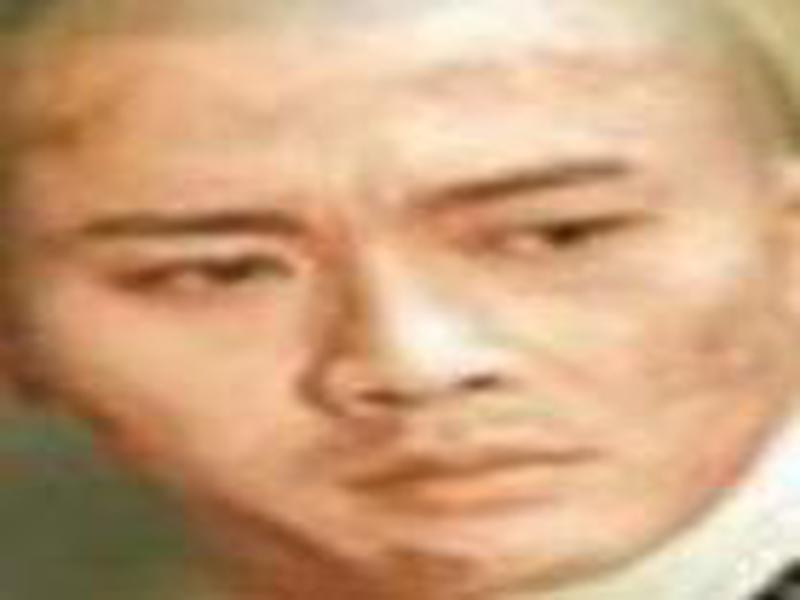without_mask: (10, 29, 780, 597)
